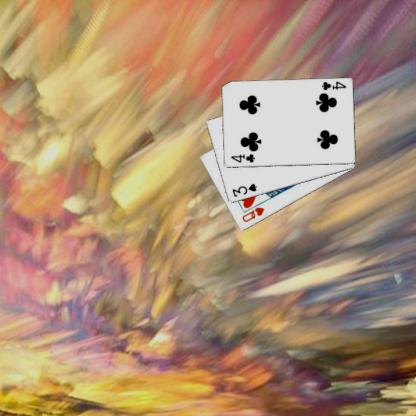3S: (229, 181, 258, 199)
4C: (319, 79, 347, 92), (228, 152, 256, 164)
QH: (240, 204, 266, 223)
